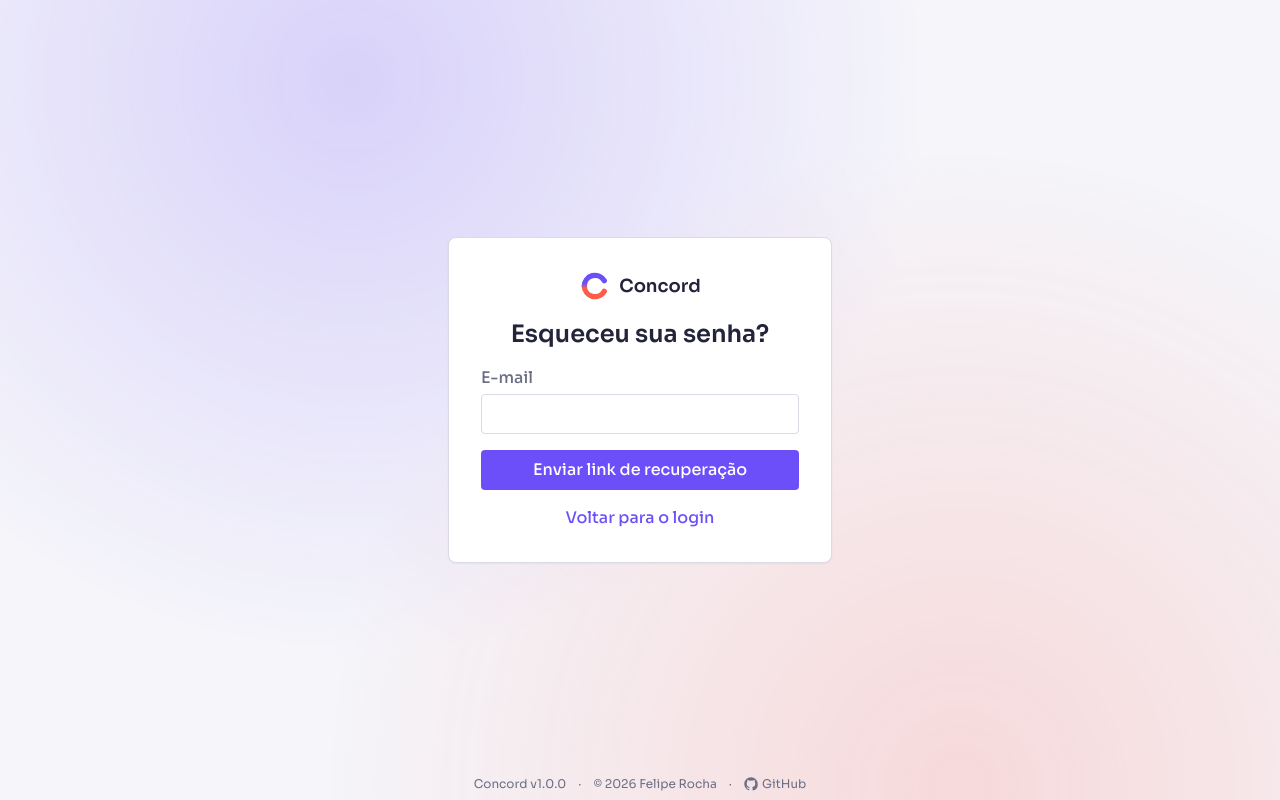
Test case: ForgotPasswordPage › shows a generic confirmation after requesting a reset
Type "alice@example.com" into the field labelled "E-mail" at point(640, 414), box [481,394,799,434]
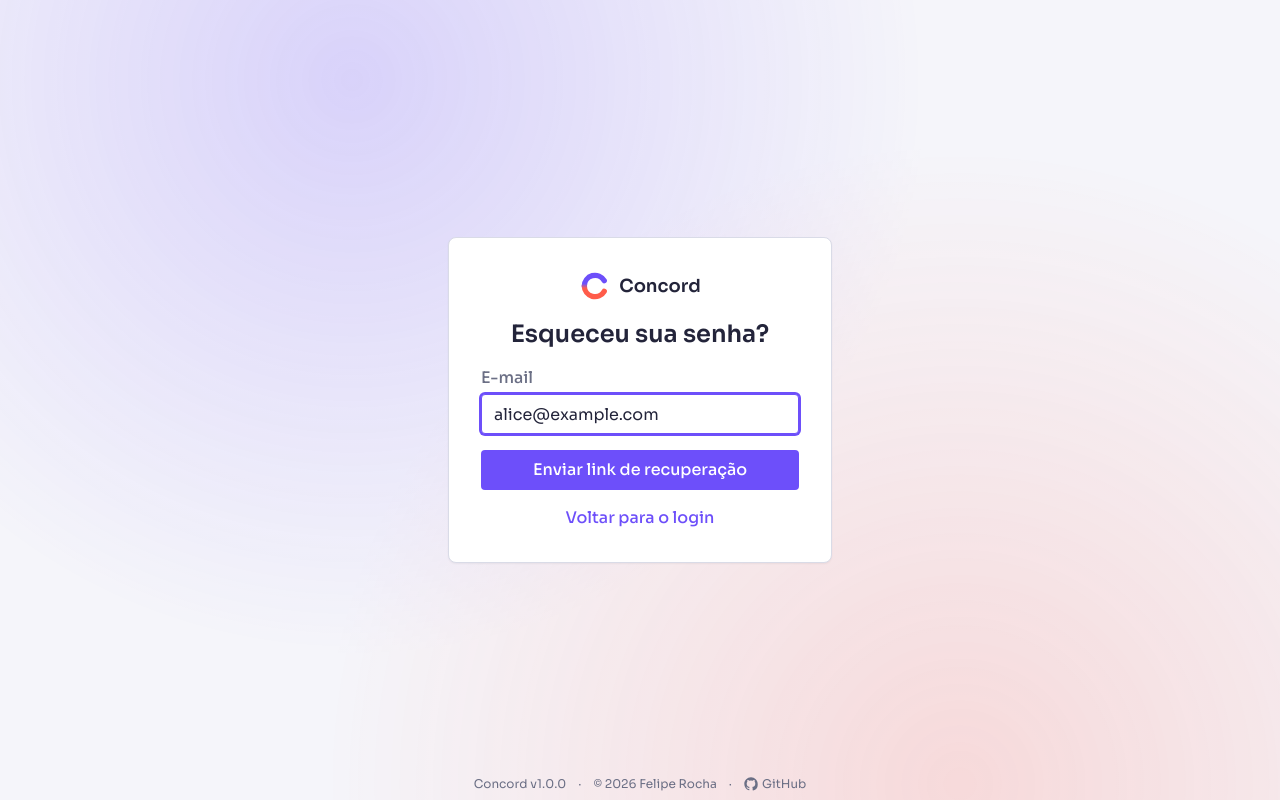
Click the button "Enviar link de recuperação" at point(640, 470), box [481,450,799,490]
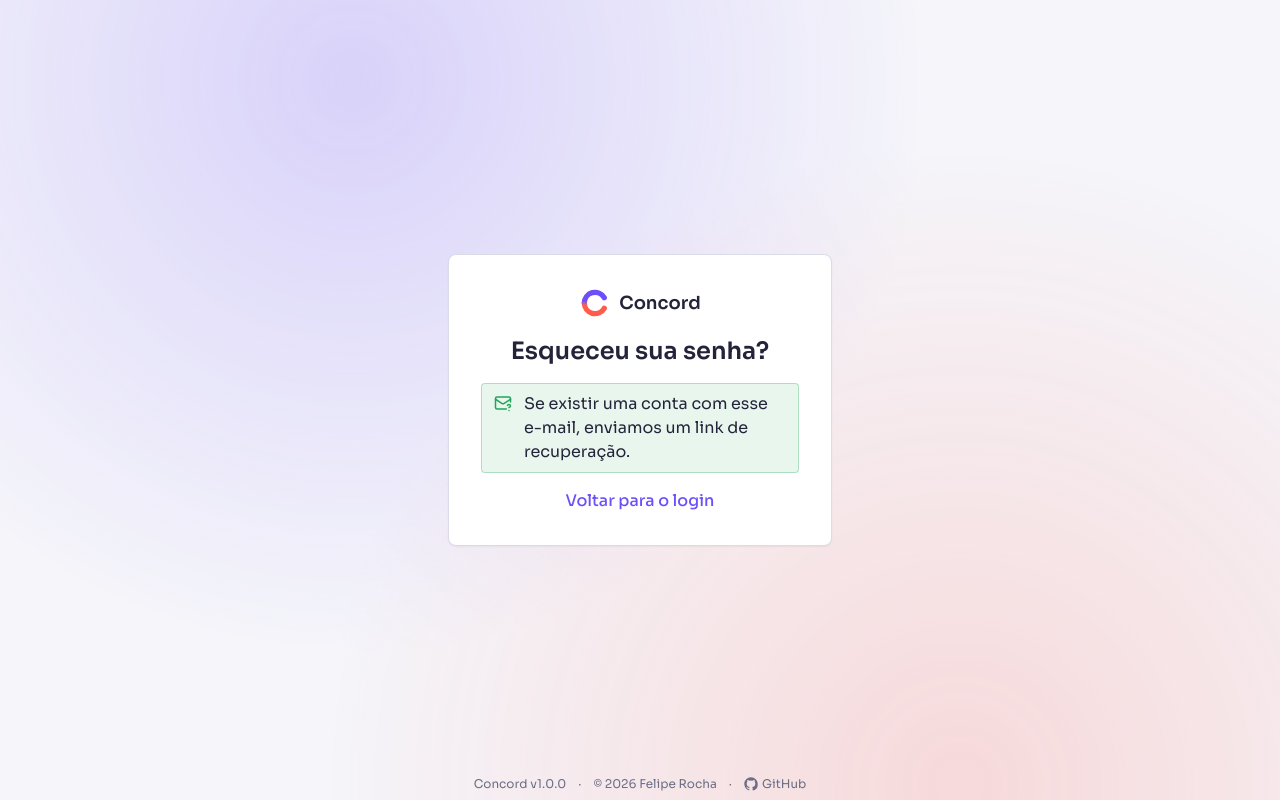
Now the message reads "Se existir uma conta com esse e-mail, enviamos um link de recuperação.", box [524,393,768,462]
